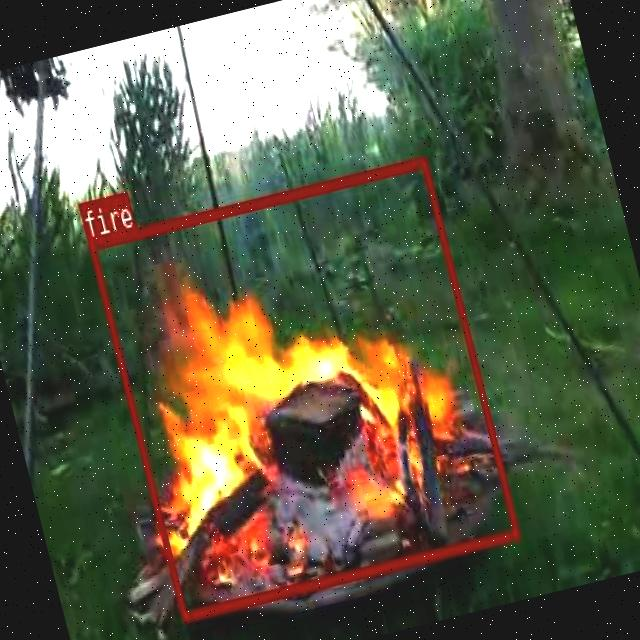fire: (86, 154, 519, 620)
